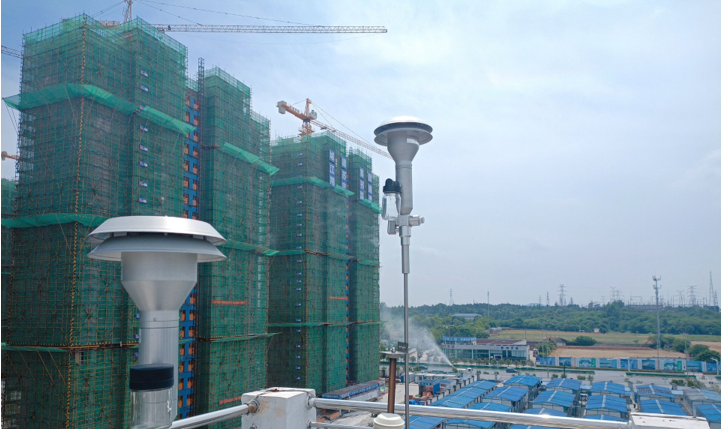penlin: (381, 309, 453, 366)
